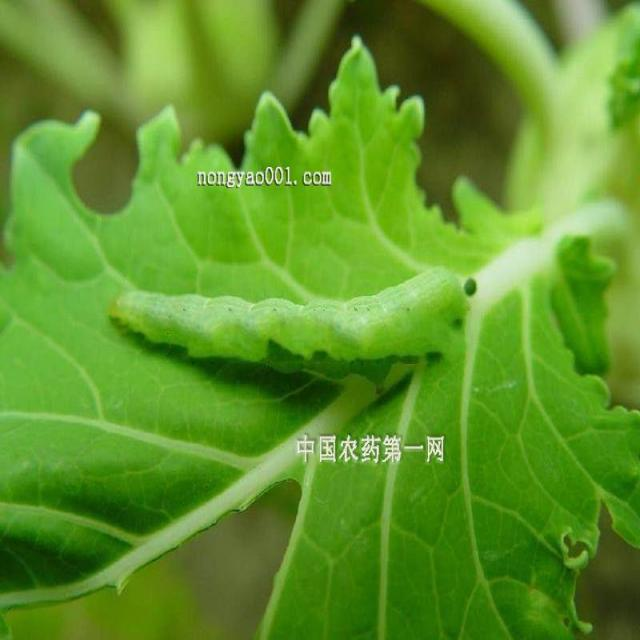armyworm: (113, 257, 500, 394)
